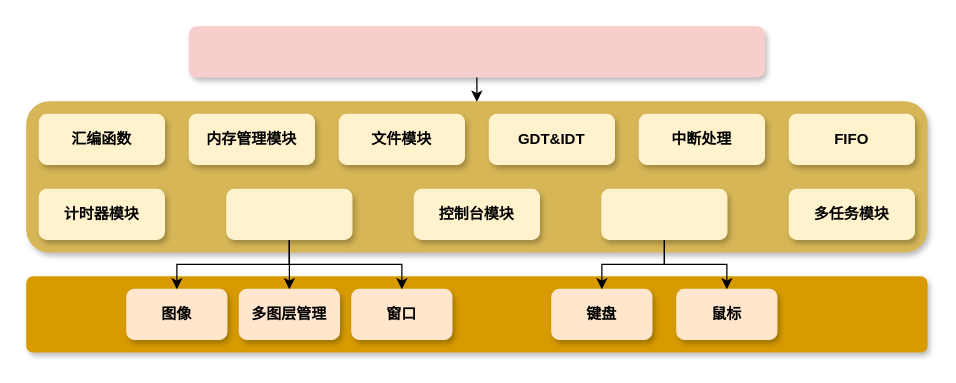
Image size: 956x383. Some labels were removed from this diagram. The centre of each missing label's shape, as x and y in pixels:
"MindSync OS" belongs at (x=477, y=53).
"外设管理模块" belongs at (x=665, y=215).
"显示模块" belongs at (x=290, y=215).
